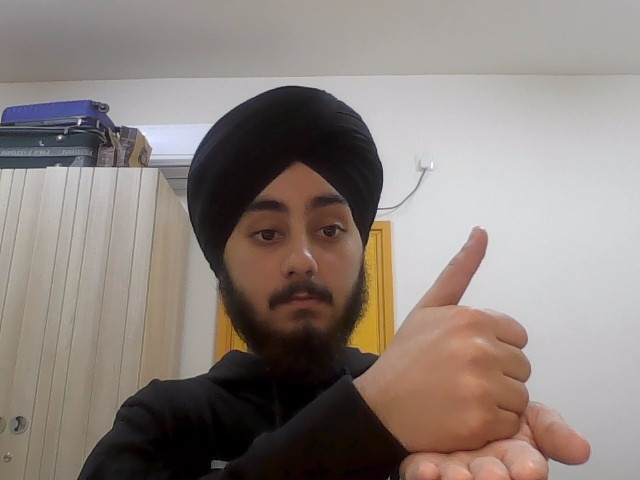Help: (383, 216, 587, 480)
